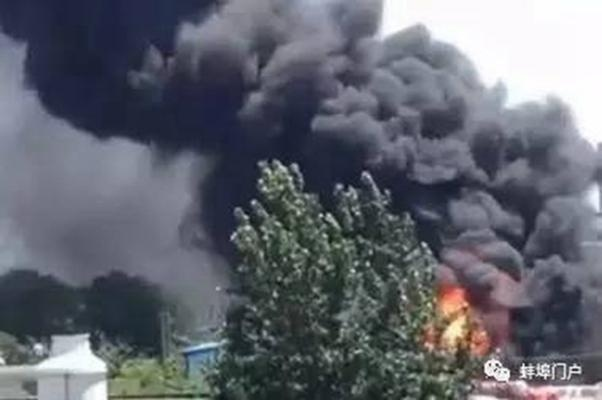fire: (427, 284, 495, 352)
